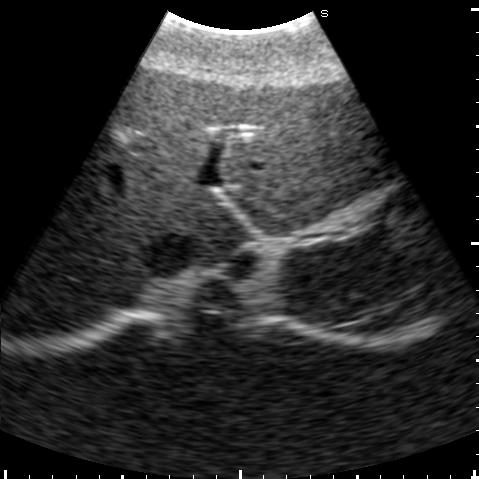IVC: (139, 232, 204, 277)
S1: (182, 193, 253, 262)
S2: (223, 158, 398, 234)
S3: (216, 76, 389, 212)
